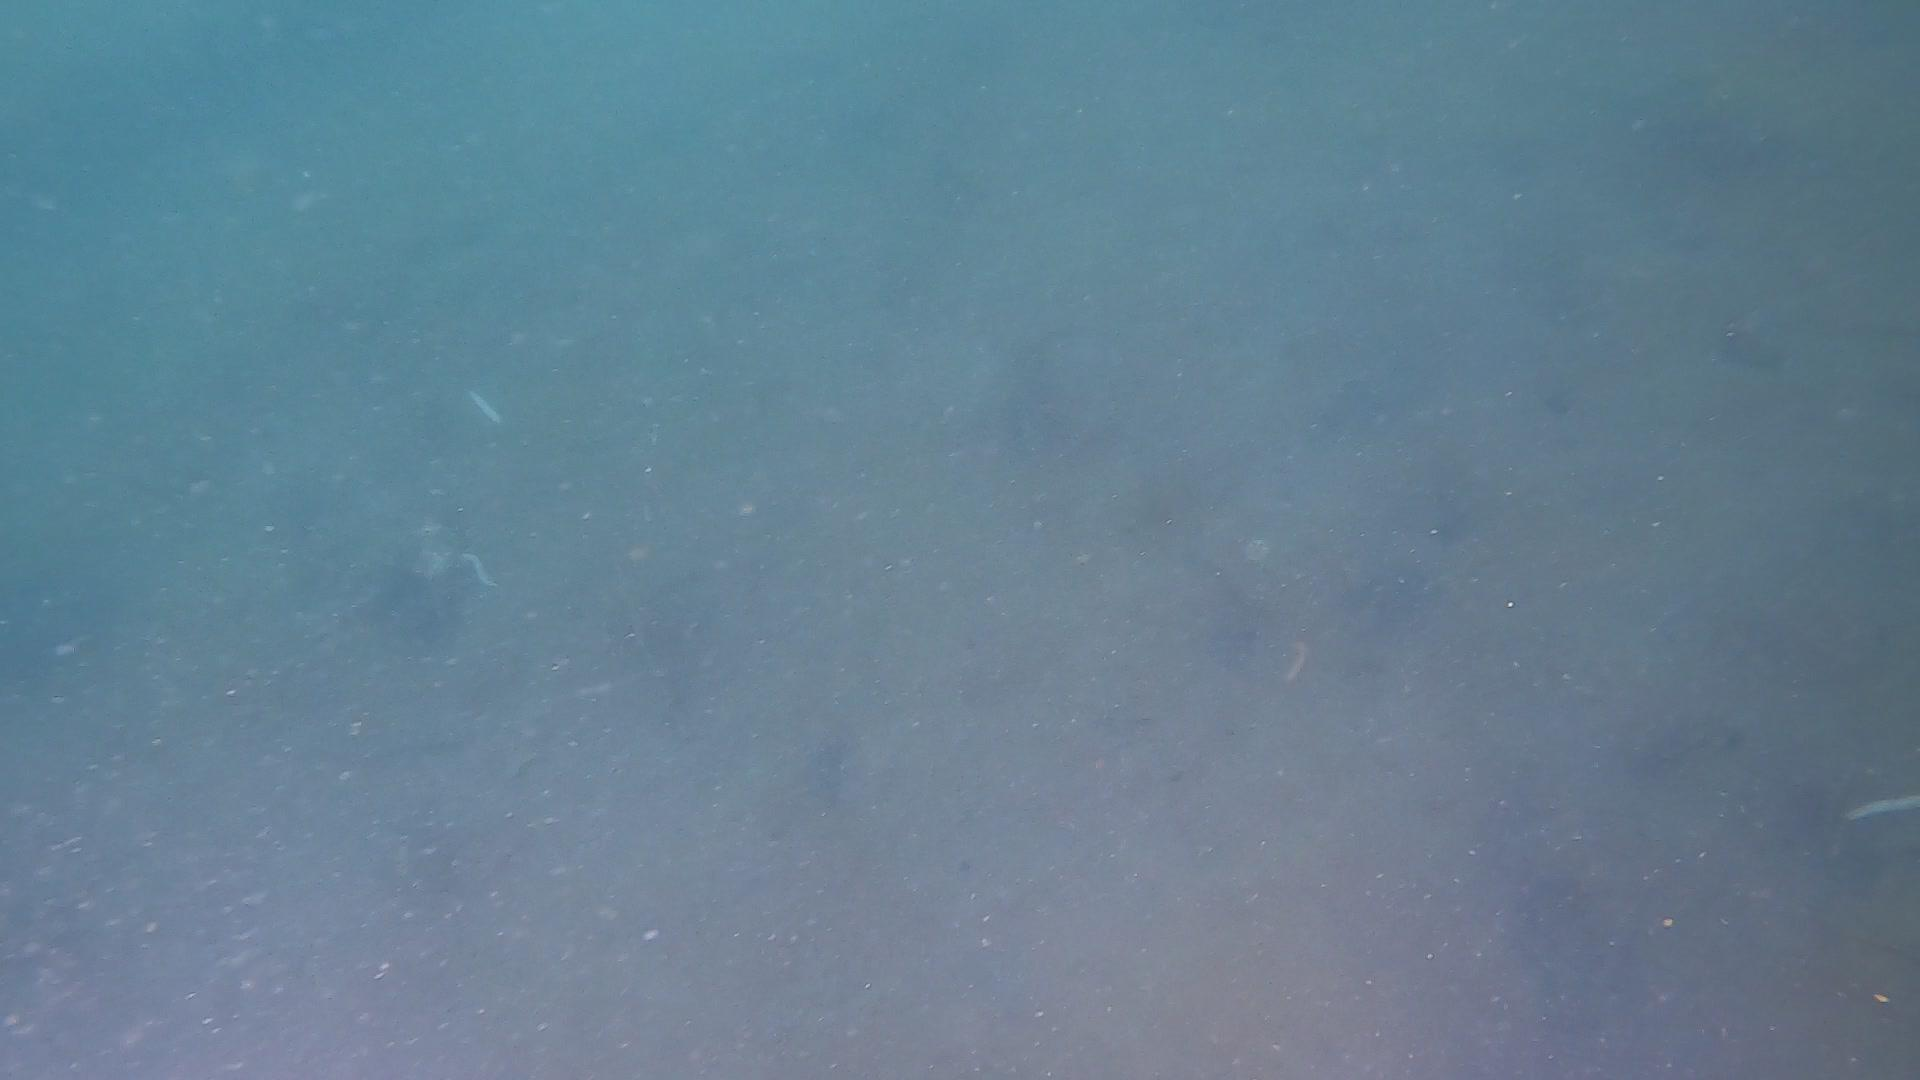fish net: (0, 125, 375, 720)
other objects: (680, 133, 1793, 982)
